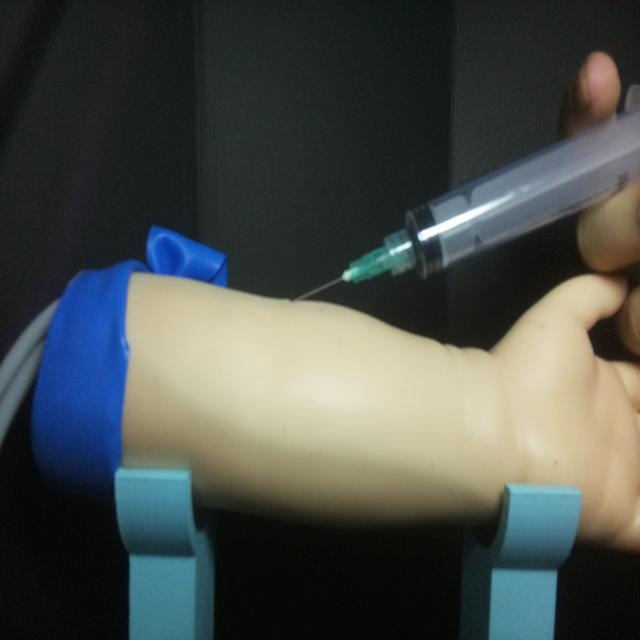16deg: (288, 90, 638, 306)
